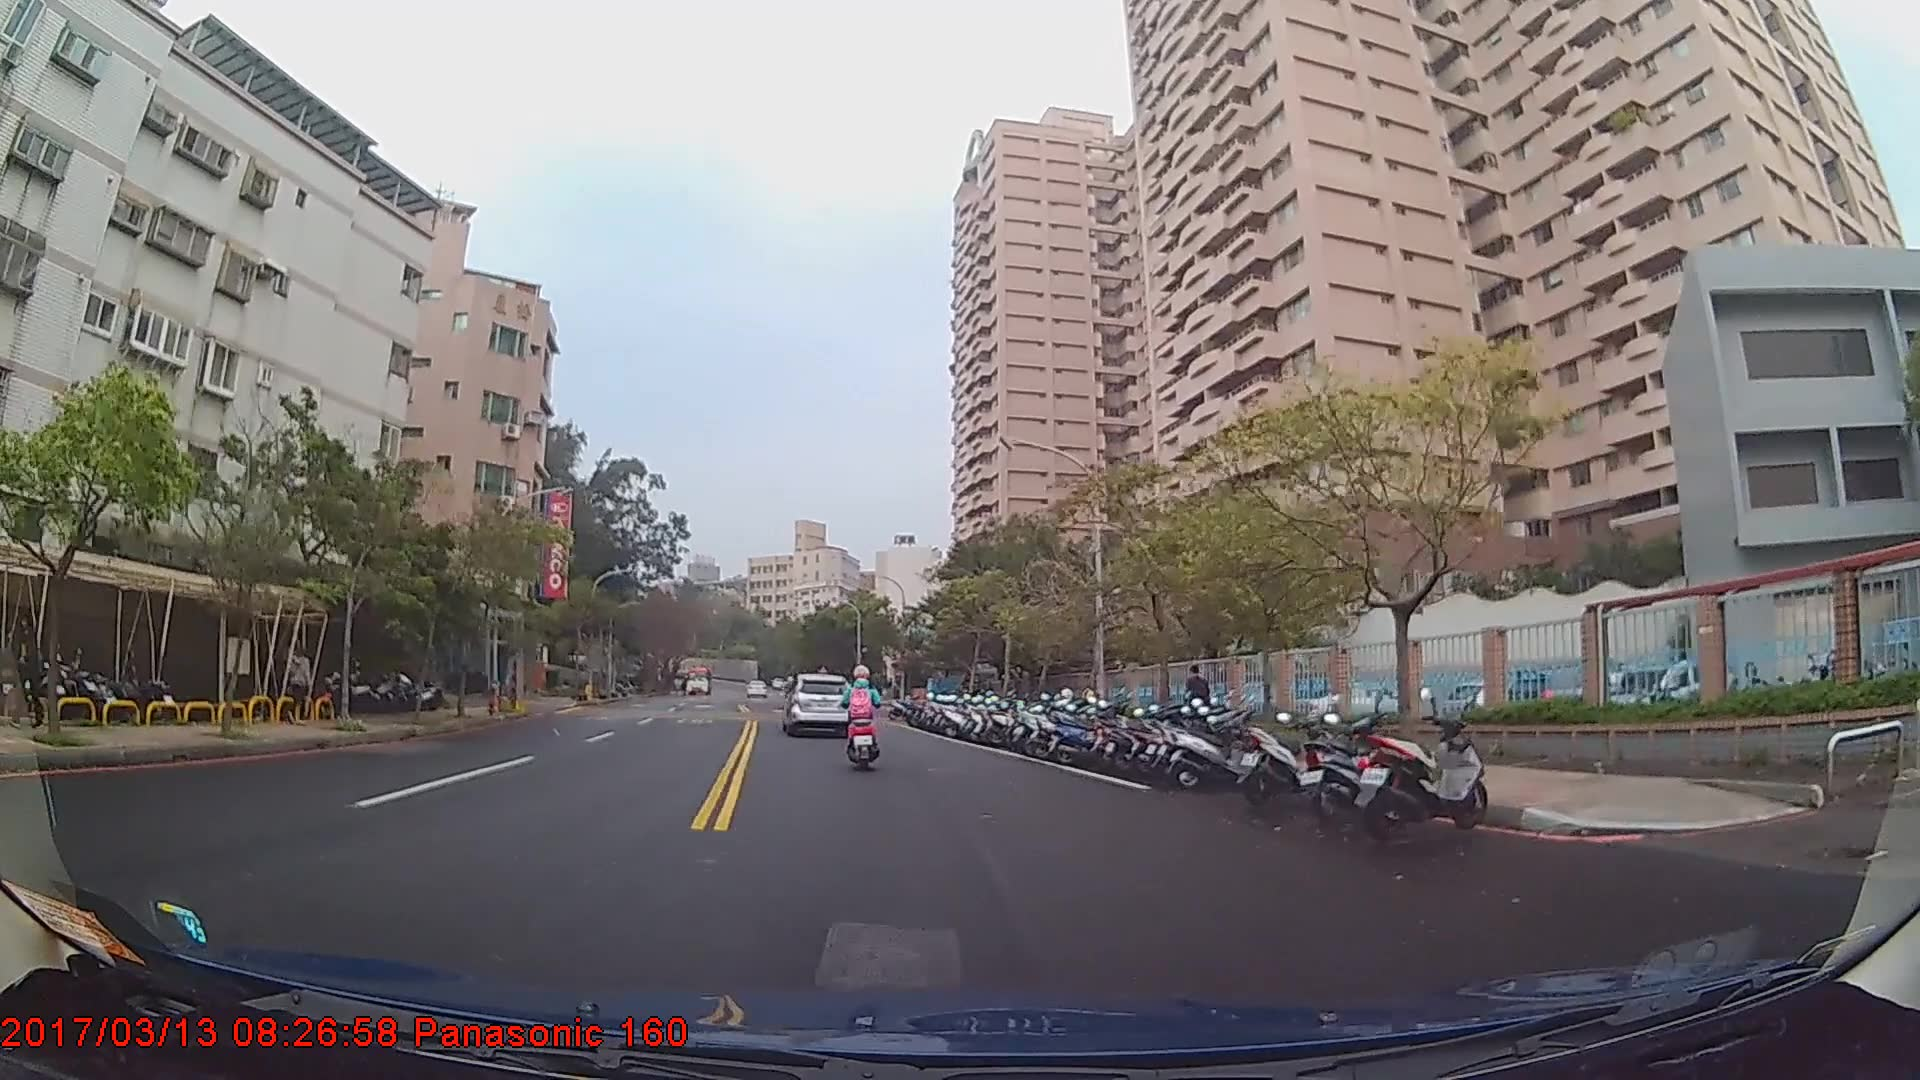pedestrian: (6, 602, 47, 728), (1185, 664, 1214, 743), (285, 646, 312, 727)
rider: (844, 667, 884, 769)
vehicle: (782, 671, 852, 736), (682, 666, 715, 698)
